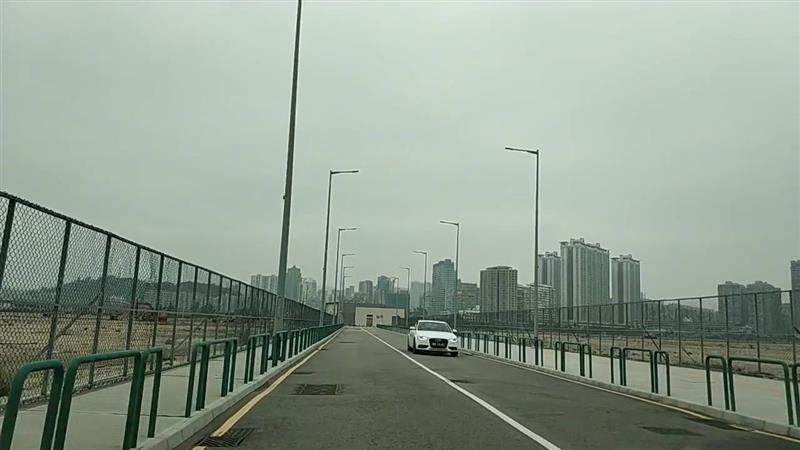car: (406, 318, 462, 357)
